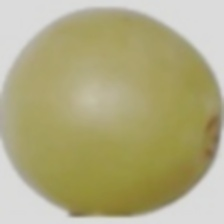grapes: (34, 33, 172, 218)
